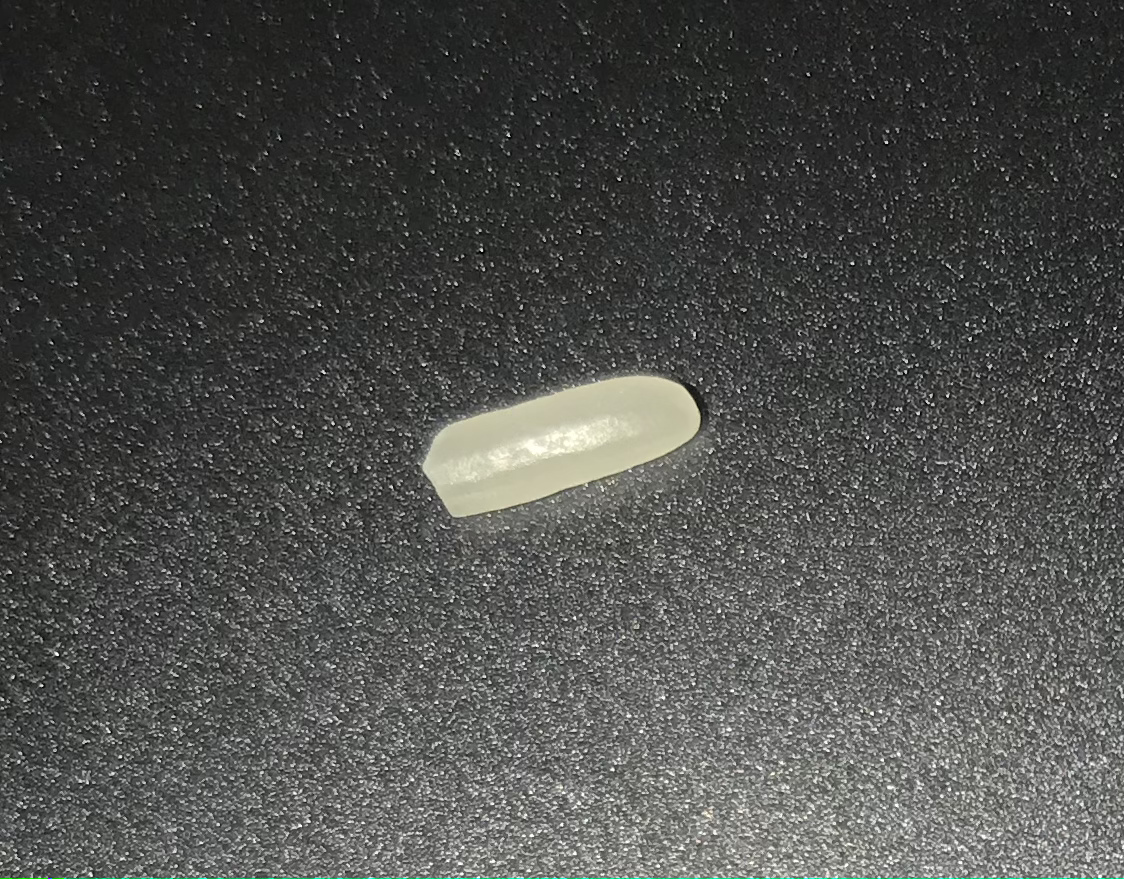Gao Thom My: (427, 344, 718, 518)
